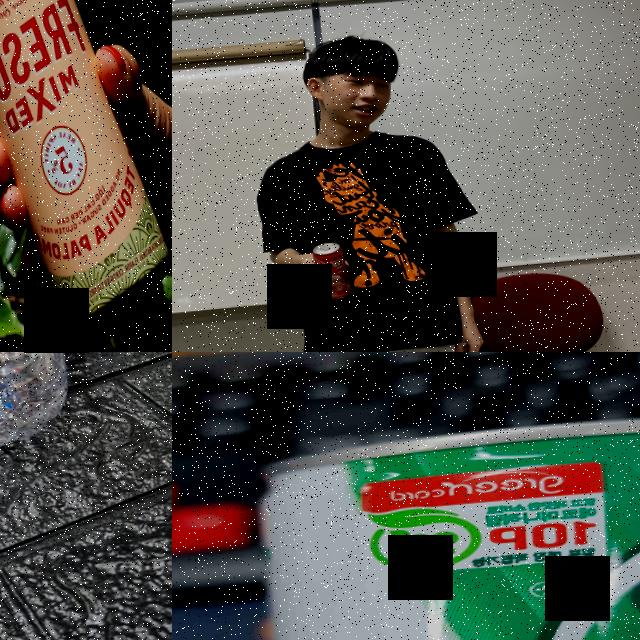can: (247, 408, 640, 640), (0, 0, 172, 350), (310, 239, 354, 302)
